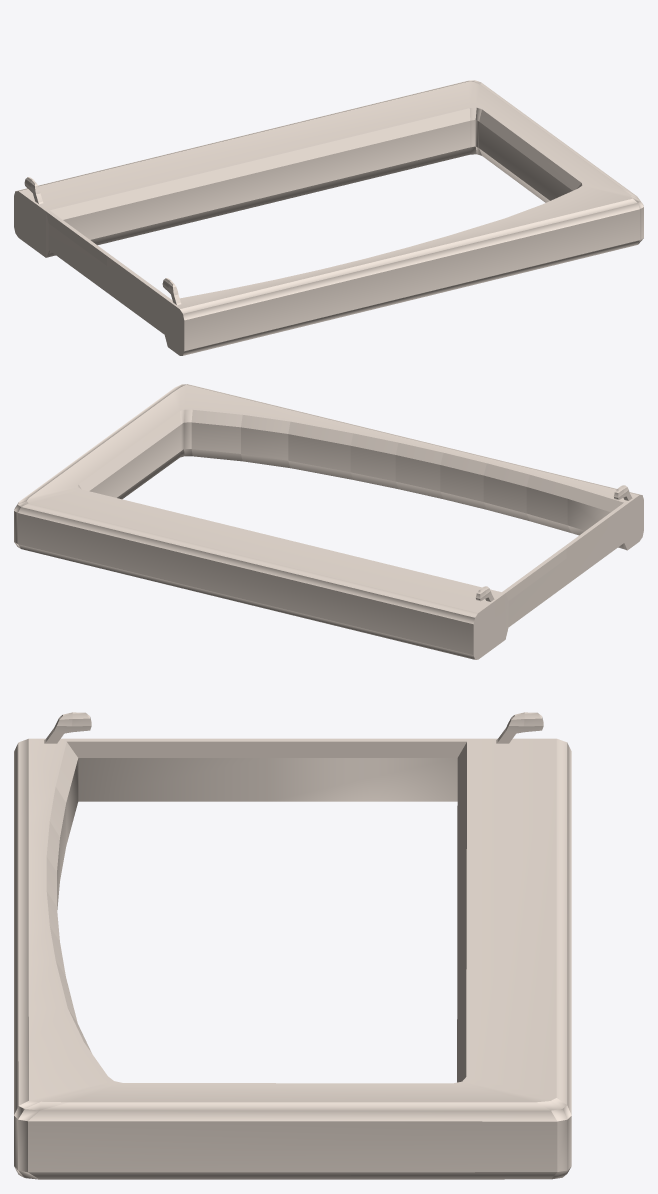
File: DoormeshMicrowaveDoorC2_1_GeomSubset_0.obj
3 renders of one model, top to bottom at view 1: azimuth 30°, elevation 25°; view 2: azimuth 150°, elevation 25°; view 3: azimuth 270°, elevation 25°, orthographic. The views are drawn at different scales.
Parts seen in each view (by area): view 1: DoormeshMicrowaveDoorC2_1_GeomSubset_0; view 2: DoormeshMicrowaveDoorC2_1_GeomSubset_0; view 3: DoormeshMicrowaveDoorC2_1_GeomSubset_0.
Boxes of the visible parts, <box> form: DoormeshMicrowaveDoorC2_1_GeomSubset_0: <box>14,80,643,355</box>; DoormeshMicrowaveDoorC2_1_GeomSubset_0: <box>14,384,643,659</box>; DoormeshMicrowaveDoorC2_1_GeomSubset_0: <box>14,712,571,1179</box>.
Size of the model in its own units: 0.4882 by 0.1631 by 0.3512.
